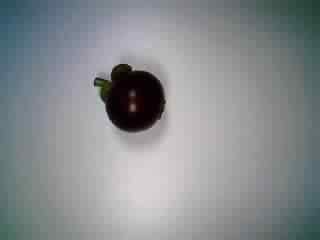mangosteen: (88, 59, 170, 134)
